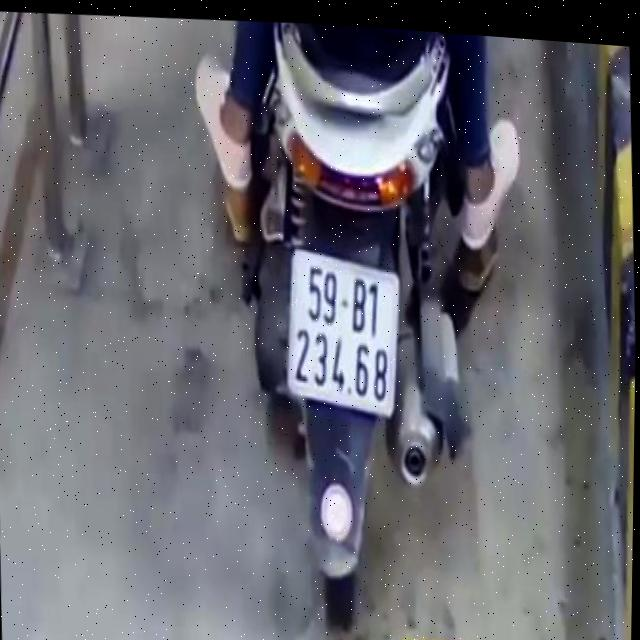motorcycle: (233, 18, 492, 640)
plate: (280, 238, 402, 423)
